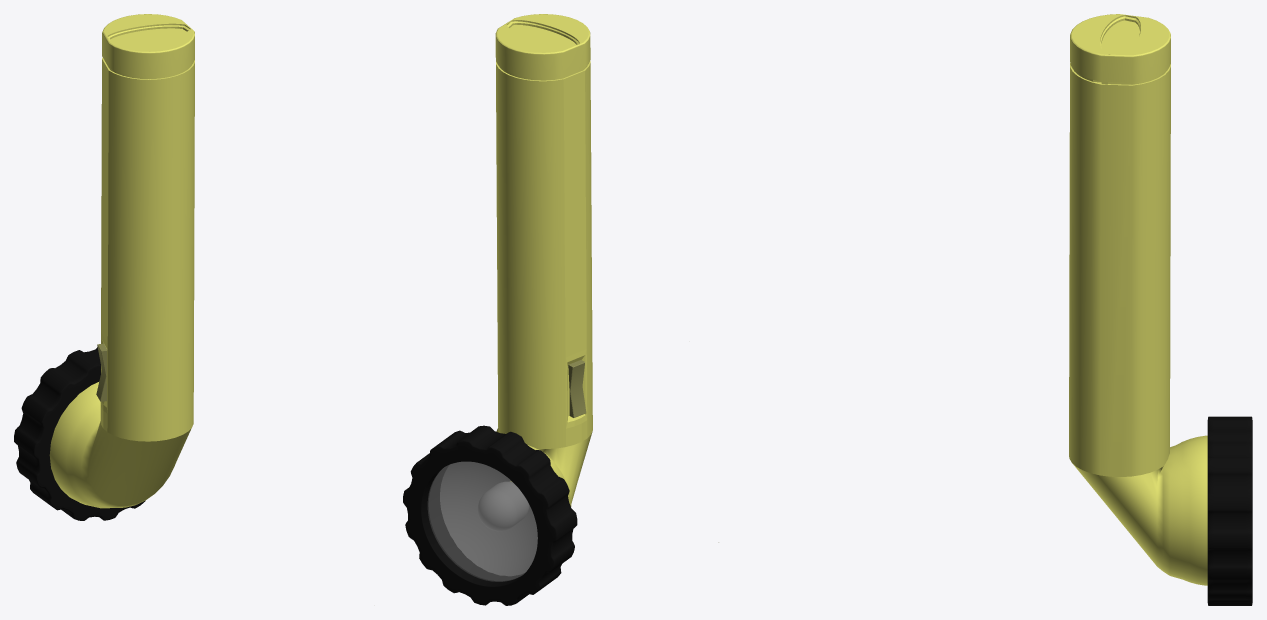
The model's file is FlashLight.fbx.
3 renders of one model, left to right at view 1: azimuth 30°, elevation 25°; view 2: azimuth 150°, elevation 25°; view 3: azimuth 270°, elevation 25°, orthographic. The views are drawn at different scales.
Parts seen in each view (by area): view 1: pSphere3, pPipe1; view 2: pSphere3, pPipe1, pCylinder1, pSphere1, pSphere2, pCube1; view 3: pSphere3, pPipe1.
Boxes of the visible parts, x1,y1,x2,y2 form: pSphere3: [49, 14, 194, 508]; pPipe1: [14, 347, 145, 520]; pSphere3: [495, 14, 592, 506]; pPipe1: [403, 425, 577, 605]; pCylinder1: [427, 461, 537, 581]; pSphere1: [440, 462, 537, 575]; pSphere2: [478, 482, 528, 530]; pCube1: [568, 360, 586, 417]; pSphere3: [1069, 14, 1207, 585]; pPipe1: [1207, 416, 1252, 605].
Size of the model in its own units: 2.12 by 6.92 by 5.97.
